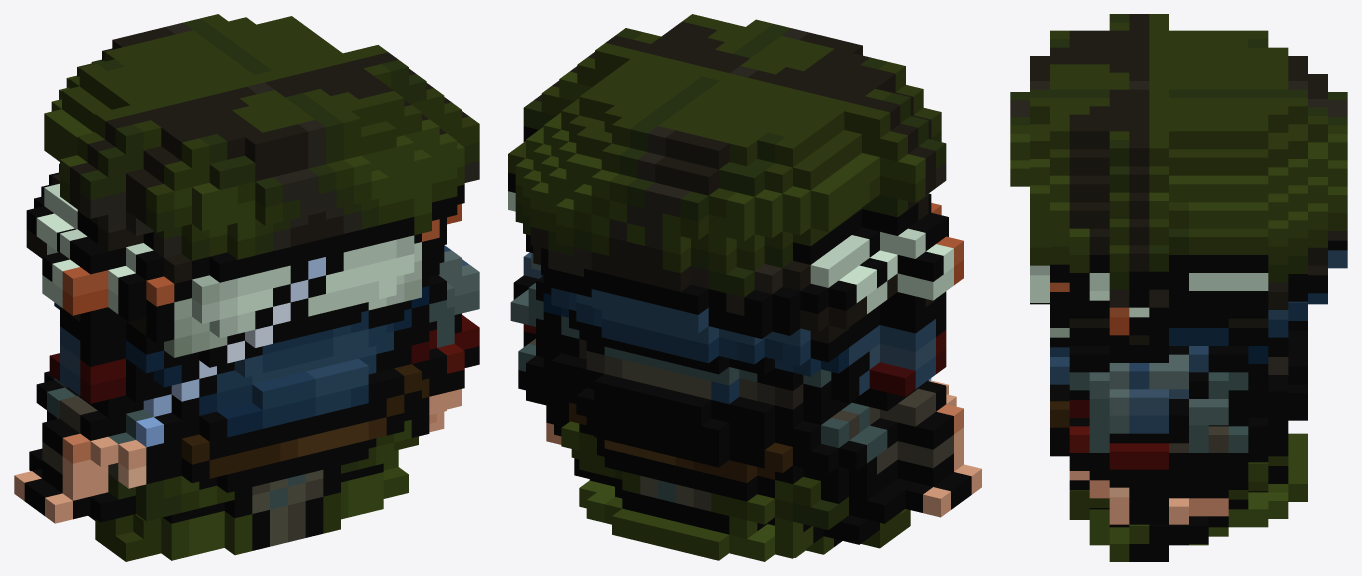
Rendered from Icon_714_02.obj.
3 views of the same model, side by side, from view 1: azimuth 30°, elevation 25°; view 2: azimuth 150°, elevation 25°; view 3: azimuth 270°, elevation 25° (orthographic). The views are drawn at different scales.
Bounding box in the file's own units: 2.4 × 2.3 × 1.7.
Materials: 1 (1 with a texture image).
